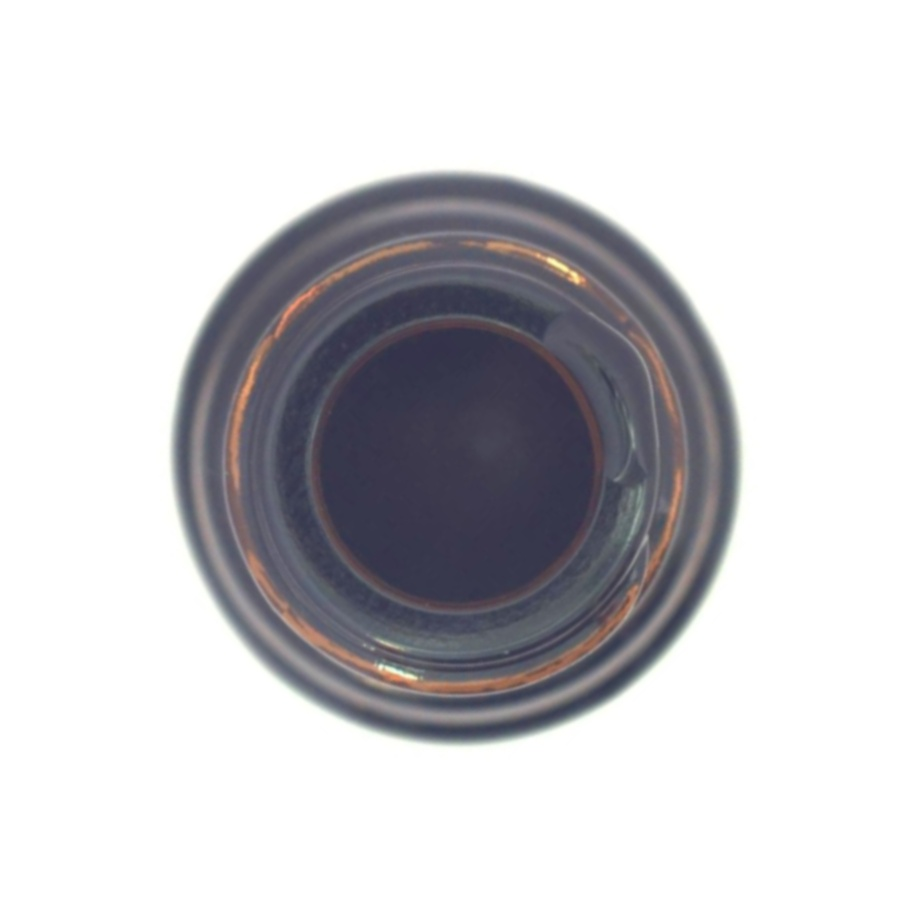bad-contamination: (41, 43, 852, 868)
